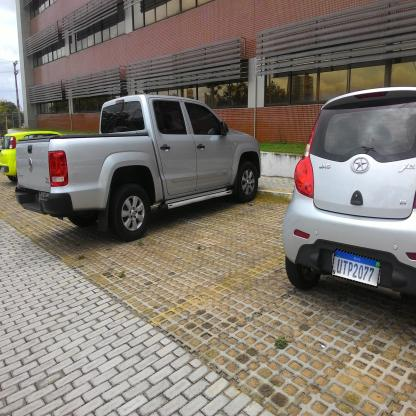PlacaM: (331, 248, 381, 288)
